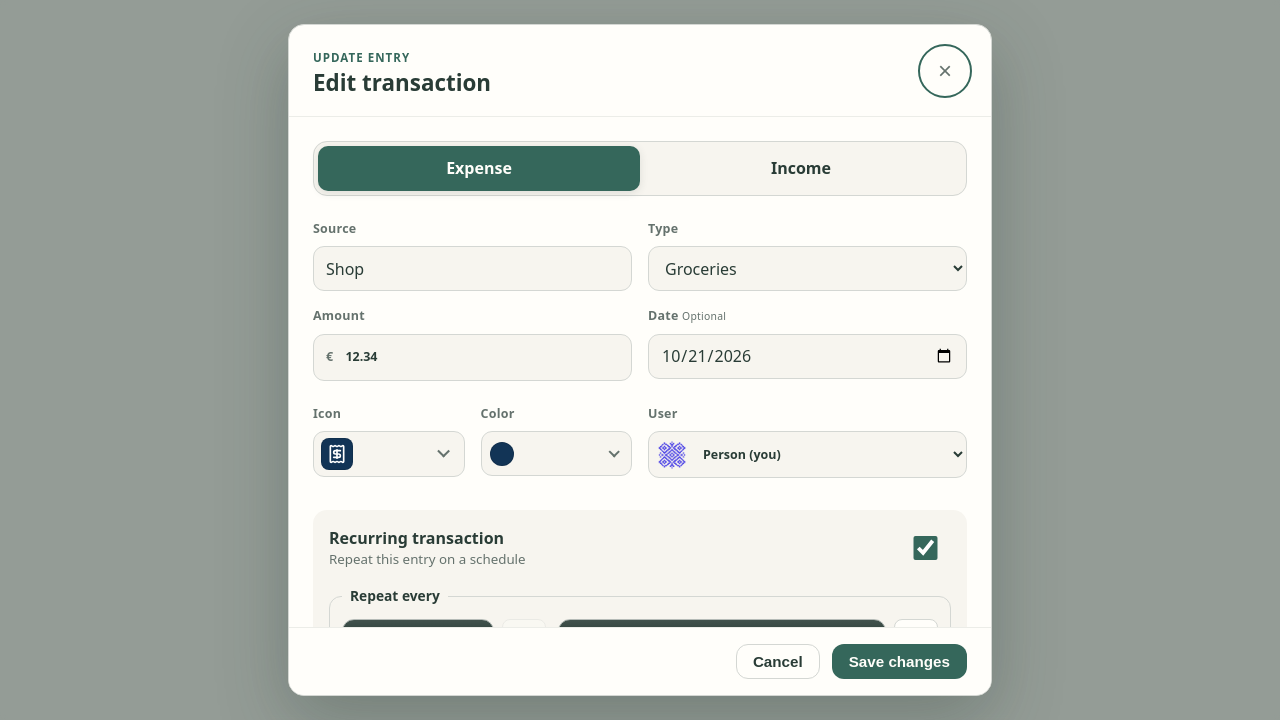
Test: transaction form + query + HTTP client › warns and names the destination before saving an edit into another month
The width and height of the screenshot is (1280, 720).
Type "2027-01-05" into the date field labelled "Date Optional". click: coordinates (808, 356)
box: [648, 334, 967, 379]
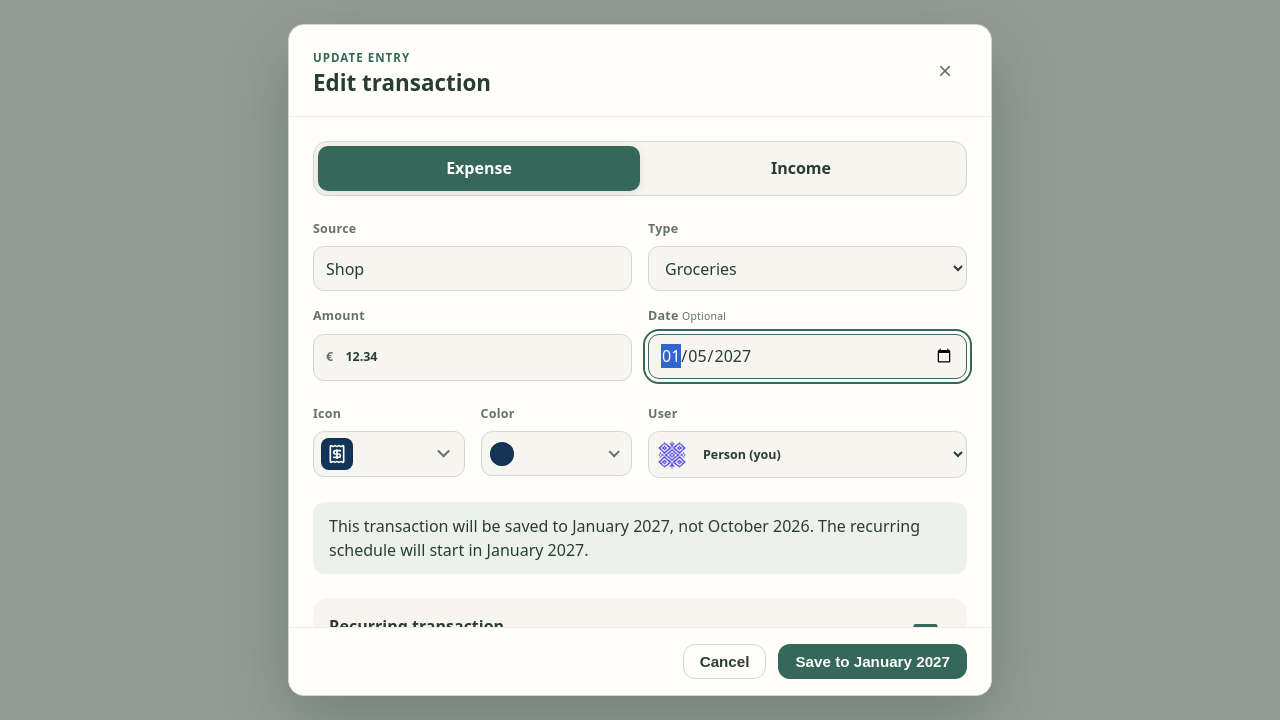
Expected: the message shows "saved to January 2027, not October 2026", [329, 515, 814, 537]
Expected: the message shows "recurring schedule will start in January 2027", [329, 515, 920, 561]
Expected: the button "Save to January 2027" is shown, [778, 644, 967, 679]
